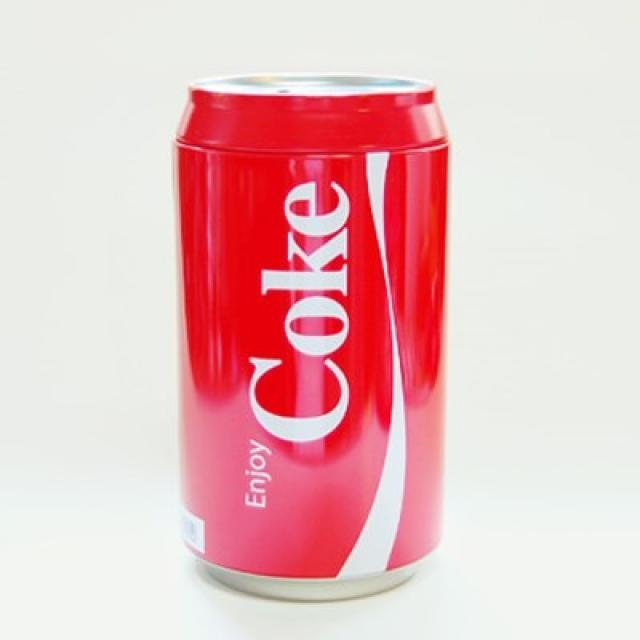coca-cola: (170, 70, 454, 604)
